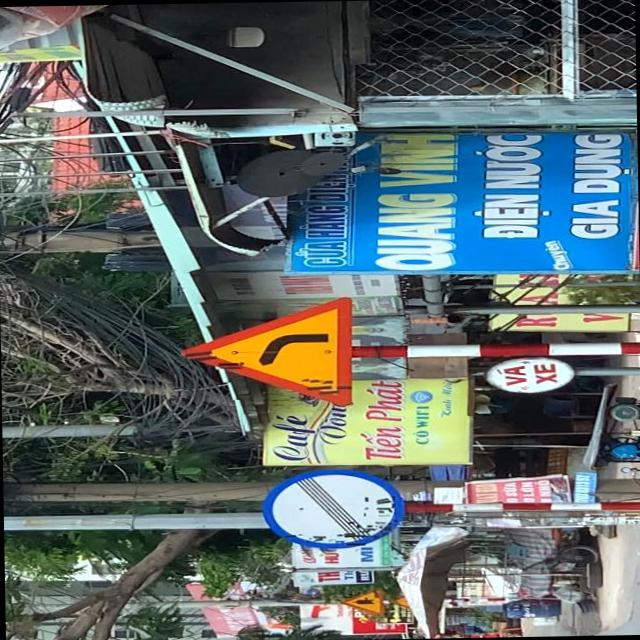DP-135: (262, 472, 403, 550)
W-201a: (178, 300, 354, 404)
W-207b: (334, 586, 386, 618)
